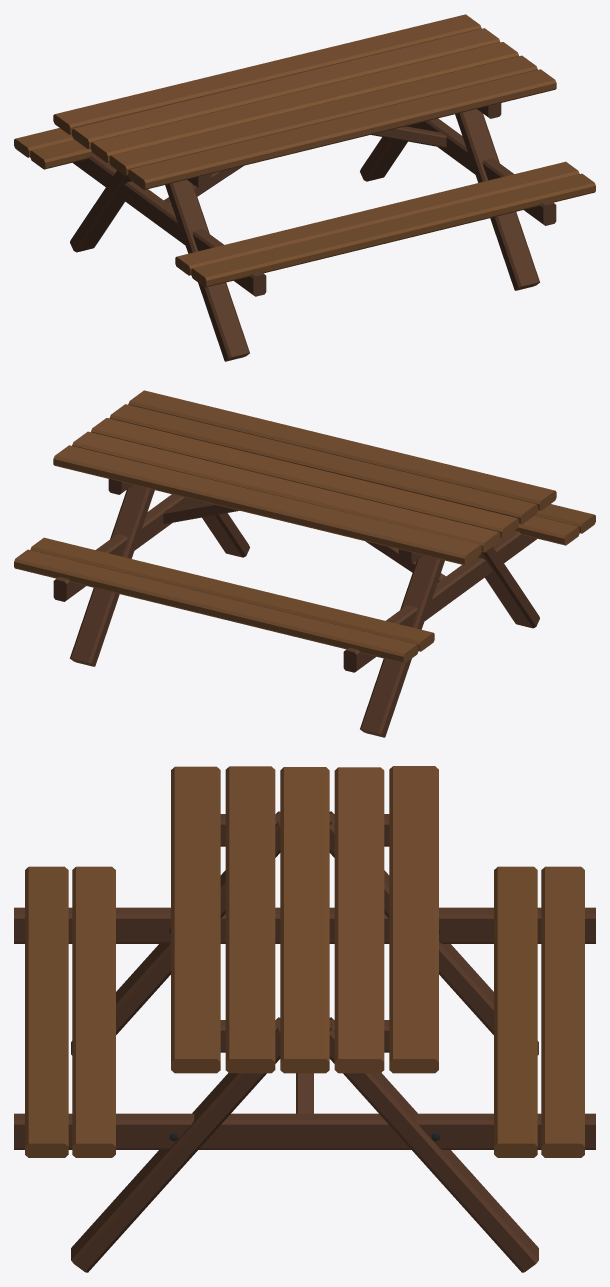
File: prop_picnic_table_a.glb
3 renders of one model, top to bottom at view 1: azimuth 30°, elevation 25°; view 2: azimuth 150°, elevation 25°; view 3: azimuth 270°, elevation 25°, orthographic. The views are drawn at different scales.
Parts seen in each view (by area): view 1: prop_picnic_table_a_mesh; view 2: prop_picnic_table_a_mesh; view 3: prop_picnic_table_a_mesh.
Part boxes in pixels (box(x1,y1,x2,y2)): prop_picnic_table_a_mesh: box(14, 14, 595, 361); prop_picnic_table_a_mesh: box(14, 390, 595, 737); prop_picnic_table_a_mesh: box(14, 766, 595, 1272).
Bounding box in the file's own units: 1.9 × 0.7629 × 1.6.
